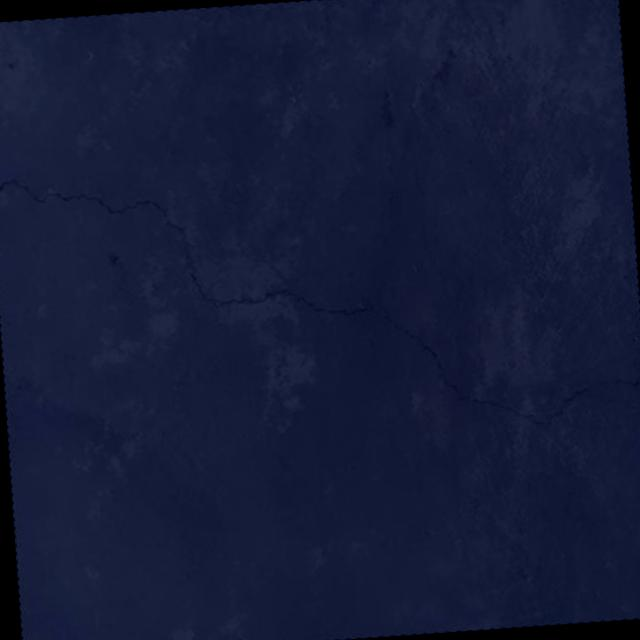crack: (0, 135, 640, 462)
